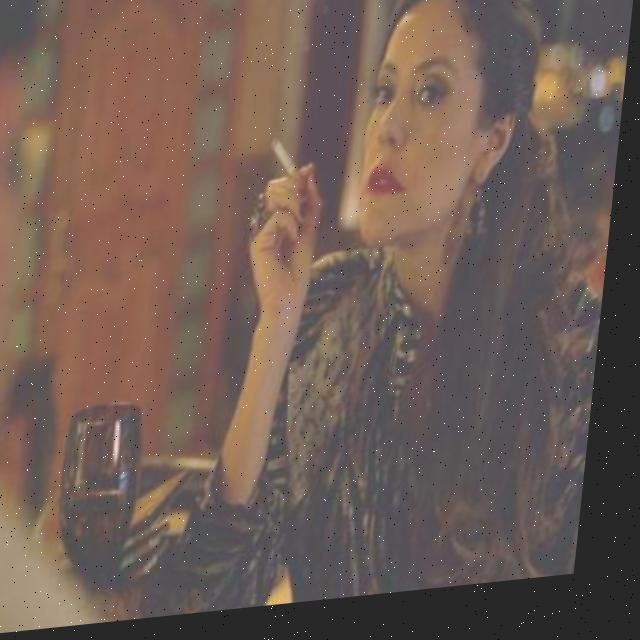cigarette: (268, 142, 307, 191)
